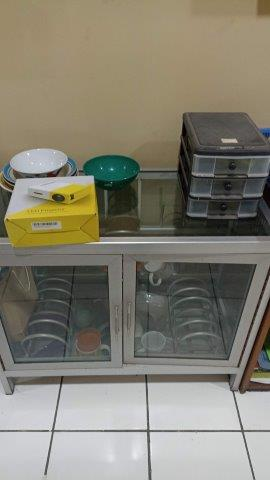kardus: (4, 175, 98, 247)
